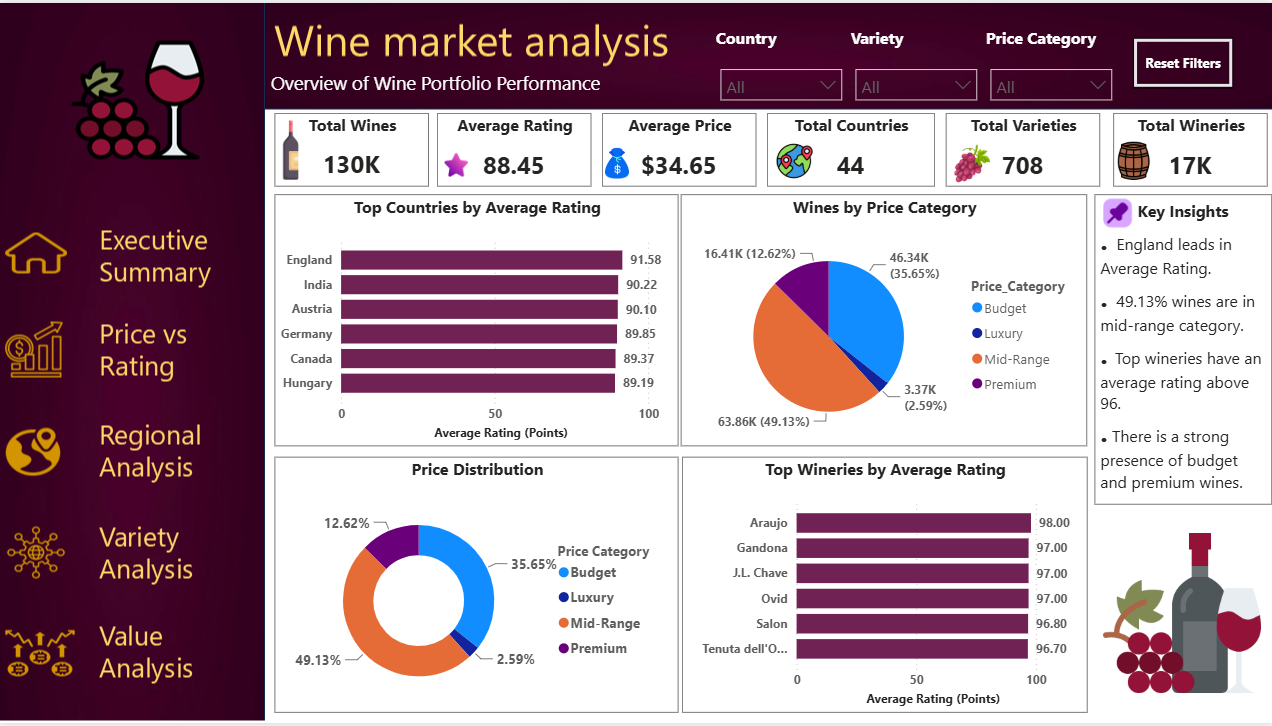

Layout of this report page (visuals, bound fields, positions):
{"tool":"powerbi","page":{"name":"Executive Summary","canvas":[1280,720],"ordinal":0},"visuals":[{"type":"textbox","box":[269,63.1,450.1,43.9],"z":0},{"type":"card","title":"Total Wines","fields":{"Values":["wine_data wine_insight.Total Wines"]},"box":[277.5,109.8,154.4,73.6],"z":1000},{"type":"image","box":[253.4,117,79.6,59.1],"z":2000},{"type":"card","title":"Average Rating","fields":{"Values":["wine_data wine_insight.Average Rating"]},"box":[440.4,109.8,154.4,73.6],"z":3000},{"type":"card","title":"Average Price","fields":{"Values":["wine_data wine_insight.Average Price"]},"box":[604.4,109.8,154.4,73.6],"z":4000},{"type":"card","title":"Total Countries","fields":{"Values":["Count(wine_data wine_insight.country)"]},"box":[769.7,109.8,167.7,73.6],"z":5000},{"type":"card","title":"Total Varieties","fields":{"Values":["Count(wine_data wine_insight.variety)"]},"box":[948.3,109.8,154.4,73.6],"z":6000},{"type":"card","title":"Total Wineries","fields":{"Values":["Count(wine_data wine_insight.winery)"]},"box":[1116,109.8,154.4,73.6],"z":7000},{"type":"image","box":[440.4,147.2,38.6,29],"z":8000},{"type":"image","box":[599.6,143.6,39.8,32.6],"z":9000},{"type":"image","box":[769.7,139.9,55.5,36.2],"z":10000},{"type":"image","box":[955.5,137.5,41,45.8],"z":11000},{"type":"image","box":[1116,135.1,41,45.8],"z":12000},{"type":"slicer","title":"Country","fields":{"Values":["wine_data wine_insight.country"]},"box":[719,24.1,135.1,77.2],"z":13000},{"type":"slicer","title":"Price Category","fields":{"Values":["wine_data wine_insight.price_category"]},"box":[989.3,24.1,135.1,77.2],"z":14000},{"type":"actionButton","title":"Reset Filters","box":[1136.7,34.8,100.2,50.1],"z":15000},{"type":"clusteredBarChart","title":"Top Countries by Average Rating ","fields":{"Category":["wine_data wine_insight.country"],"Y":["Avg(wine_data wine_insight.points)"]},"box":[277.5,191.8,404.2,252.1],"z":16000},{"type":"donutChart","title":"Price Distribution","fields":{"Category":["wine_data wine_insight.price_category"],"Y":["CountNonNull(wine_data wine_insight.id)"]},"box":[277.5,453.6,404.2,255.8],"z":17000},{"type":"clusteredBarChart","title":"Top Wineries by Average Rating ","fields":{"Category":["wine_data wine_insight.winery"],"Y":["Avg(wine_data wine_insight.points)"]},"box":[685.3,453.6,405.4,255.8],"z":18000},{"type":"pieChart","title":"Wines by Price Category","fields":{"Category":["wine_data wine_insight.price_category"],"Y":["Count(wine_data wine_insight.id)"]},"box":[684.1,191.8,406.6,252.1],"z":19000},{"type":"textbox","box":[1097.9,191.8,177.3,310.1],"z":20000},{"type":"image","box":[1105.1,191.8,31.4,37.4],"z":21000},{"type":"image","box":[1097.9,511.5,177.3,197.9],"z":22000},{"type":"slicer","title":"Variety","fields":{"Values":["wine_data wine_insight.variety"]},"box":[854.2,24.1,135.1,77.2],"z":23000},{"type":"actionButton","box":[0,306.1,268.5,80.7],"z":23001},{"type":"actionButton","box":[0,403.5,268.5,80.7],"z":23002},{"type":"actionButton","box":[0,512,268.5,80.7],"z":23003},{"type":"actionButton","box":[0,610.8,268.5,80.7],"z":23004},{"type":"actionButton","box":[0,214.3,268.5,80.7],"z":23005}]}

Visuals, with their boxes in screenshot pixels (x1, y1, x2, y2), scaled from the page's 1280x720 canvas onto the 1272x726 screenshot:
textbox: x1=267 y1=64 x2=715 y2=108
"Total Wines" card: x1=276 y1=111 x2=429 y2=185
image: x1=252 y1=118 x2=331 y2=178
"Average Rating" card: x1=438 y1=111 x2=591 y2=185
"Average Price" card: x1=601 y1=111 x2=754 y2=185
"Total Countries" card: x1=765 y1=111 x2=932 y2=185
"Total Varieties" card: x1=942 y1=111 x2=1096 y2=185
"Total Wineries" card: x1=1109 y1=111 x2=1262 y2=185
image: x1=438 y1=148 x2=476 y2=178
image: x1=596 y1=145 x2=635 y2=178
image: x1=765 y1=141 x2=820 y2=178
image: x1=950 y1=139 x2=990 y2=185
image: x1=1109 y1=136 x2=1150 y2=182
"Country" slicer: x1=715 y1=24 x2=849 y2=102
"Price Category" slicer: x1=983 y1=24 x2=1117 y2=102
"Reset Filters" actionButton: x1=1130 y1=35 x2=1229 y2=86
"Top Countries by Average Rating " clusteredBarChart: x1=276 y1=193 x2=677 y2=448
"Price Distribution" donutChart: x1=276 y1=457 x2=677 y2=715
"Top Wineries by Average Rating " clusteredBarChart: x1=681 y1=457 x2=1084 y2=715
"Wines by Price Category" pieChart: x1=680 y1=193 x2=1084 y2=448
textbox: x1=1091 y1=193 x2=1267 y2=506
image: x1=1098 y1=193 x2=1129 y2=231
image: x1=1091 y1=516 x2=1267 y2=715
"Variety" slicer: x1=849 y1=24 x2=983 y2=102
actionButton: x1=0 y1=309 x2=267 y2=390
actionButton: x1=0 y1=407 x2=267 y2=488
actionButton: x1=0 y1=516 x2=267 y2=598
actionButton: x1=0 y1=616 x2=267 y2=697
actionButton: x1=0 y1=216 x2=267 y2=297
